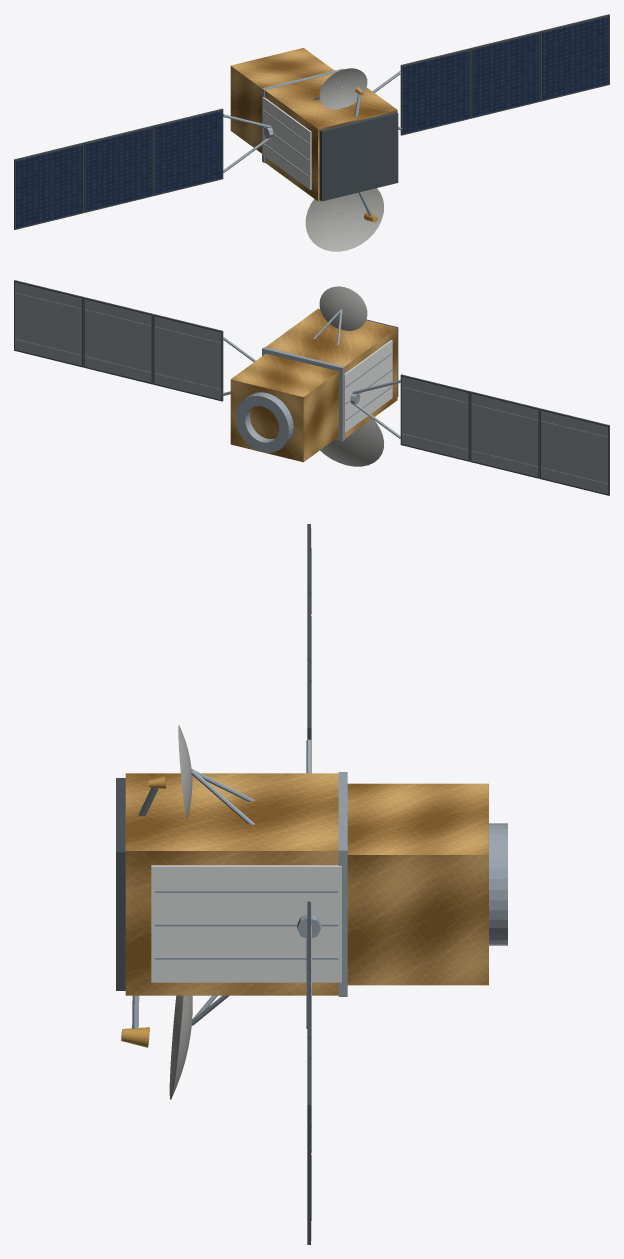
File: ref-ekspress-1000k-39613.glb
3 renders of one model, top to bottom at view 1: azimuth 30°, elevation 25°; view 2: azimuth 150°, elevation 25°; view 3: azimuth 270°, elevation 25°, orthographic. The views are drawn at different scales.
Parts seen in each view (by area): view 1: Solar cell panel (×6), Earth-facing deck, Communications reflector (×2), Payload module, Service module, Solar panel frame (×6), Radiator face, Module interface; view 2: Rear array substrate (×6), Service module, Payload module, Solar panel frame (×6), Communications reflector (×2), Radiator face, Launch adapter ring, Module interface; view 3: Service module, Payload module, Radiator face, Launch adapter ring, Earth-facing deck, Module interface, Communications reflector.
Part boxes in pixels (x1,y1,x2,y2): Solar cell panel (×6): (16, 16, 608, 228); Earth-facing deck: (319, 111, 398, 201); Communications reflector (×2): (305, 68, 384, 251); Payload module: (265, 73, 397, 201); Service module: (230, 48, 334, 153); Solar panel frame (×6): (14, 14, 609, 229); Radiator face: (262, 97, 311, 189); Module interface: (262, 68, 343, 162); Rear array substrate (×6): (15, 282, 607, 494); Service module: (230, 353, 338, 462); Payload module: (265, 308, 397, 438); Solar panel frame (×6): (14, 280, 609, 495); Communications reflector (×2): (319, 286, 384, 466); Radiator face: (344, 340, 392, 432); Launch adapter ring: (235, 392, 293, 452); Module interface: (262, 347, 344, 441); Service module: (347, 783, 488, 985); Payload module: (125, 773, 338, 995); Radiator face: (151, 865, 341, 982); Launch adapter ring: (489, 823, 507, 945); Earth-facing deck: (116, 778, 125, 990); Module interface: (338, 772, 347, 996); Communications reflector: (169, 995, 192, 1099).
Size of the model in its own units: 14.98 by 4.33 by 4.27.
8 materials, 2 textured.
